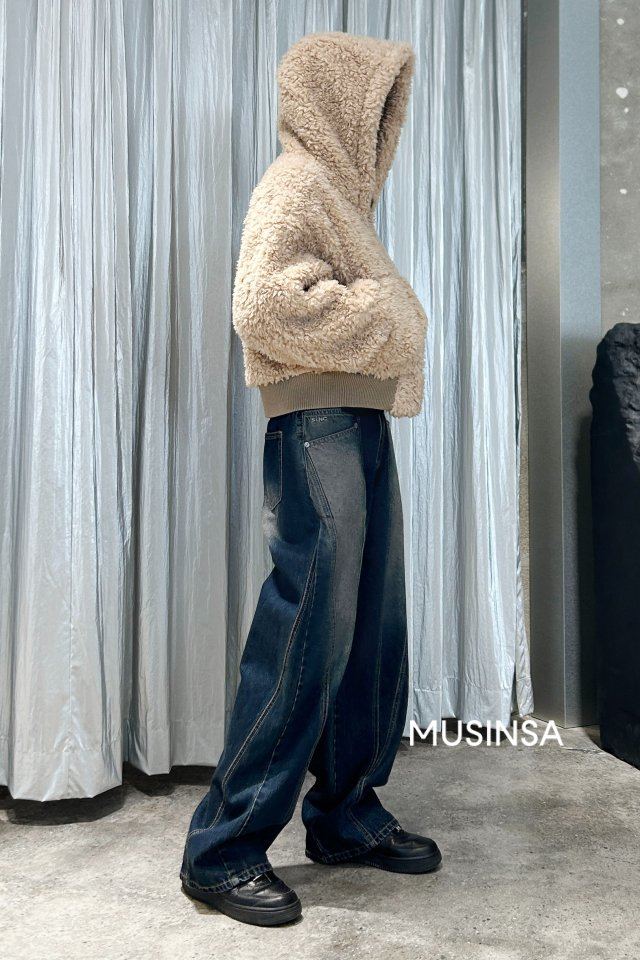Jeans: (173, 407, 426, 885)
Outer: (220, 20, 441, 425)
Shoes: (185, 828, 452, 922)
